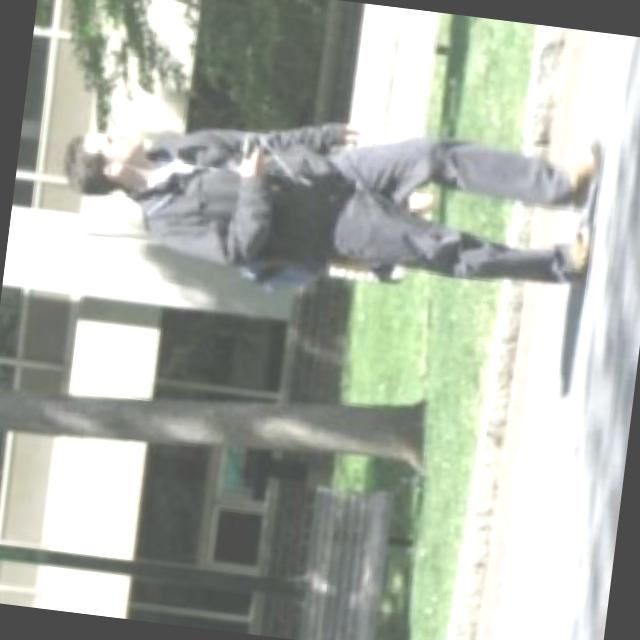Person: (46, 69, 610, 326)
